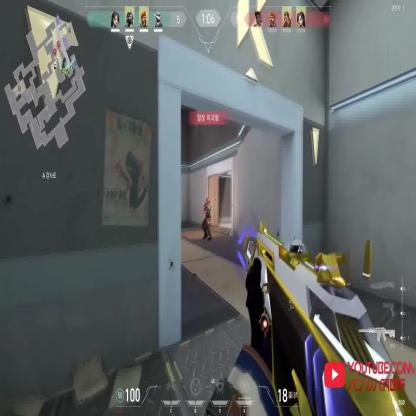enemy: (200, 196, 214, 241)
enemy_head: (206, 197, 210, 206)
